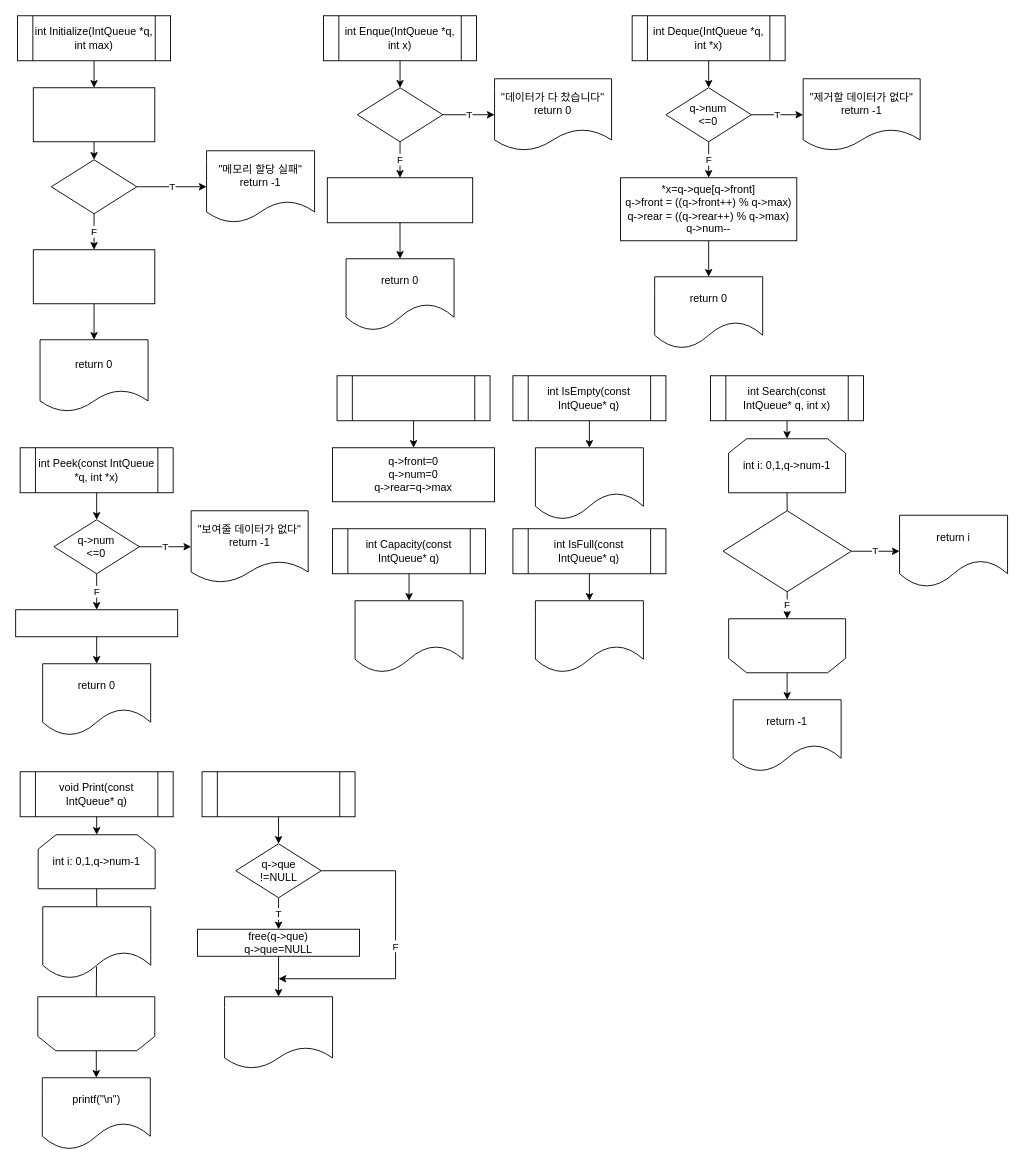
Some shapes in this 1024 by 1166 pixel diagram are drawn without their labels. Each missing label, with the box of its shape:
*x=q->que[q->front]: (15, 609, 178, 637)
q->max=max q->num=0 q->front=0 q->rear=max: (32, 249, 155, 304)
q->num !=q->max: (356, 87, 443, 142)
q->que ==NULL: (50, 159, 137, 214)
q->que[(q->front + i) % q->max] == x: (722, 510, 851, 592)
q->que[(q->front + i) % q->max] 값 출력: (42, 906, 151, 979)
q->que[q->front + q->num]=x q->num++: (326, 177, 473, 223)
que에 int형 메모리 할당: (32, 87, 155, 142)
return: (224, 996, 333, 1069)
return (q->num >= q->max): (535, 600, 643, 673)
return (q->num<=0): (535, 447, 643, 520)
return q->max: (354, 600, 463, 673)
void Clear(IntQueue* q): (336, 375, 490, 421)
void Terminate (IntQueue* q): (201, 771, 355, 817)
